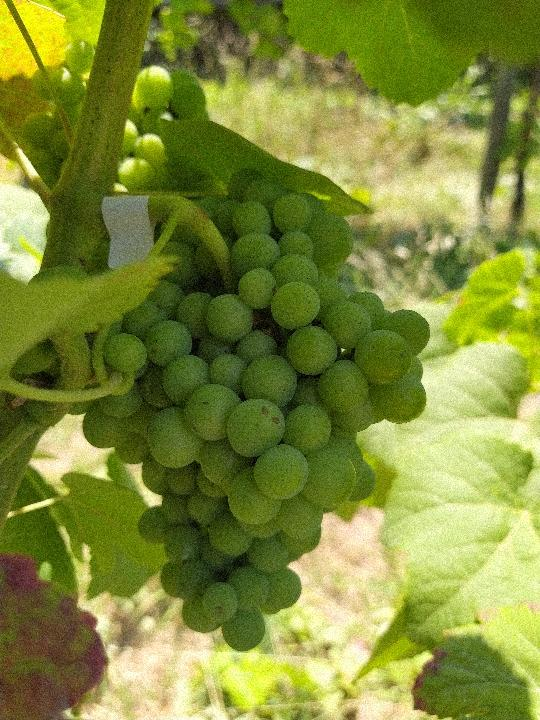grape: (69, 170, 431, 651)
